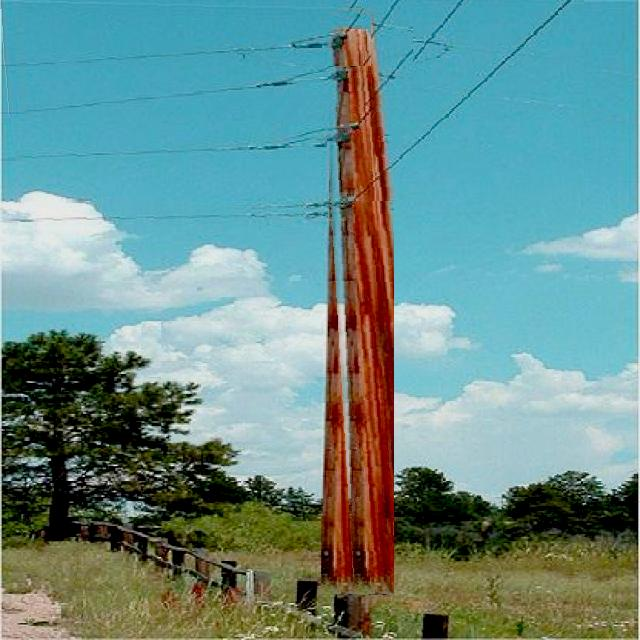pole: (332, 19, 394, 595)
wire: (9, 0, 406, 117), (348, 0, 577, 202), (3, 6, 371, 66), (357, 4, 471, 131), (10, 136, 327, 159), (2, 207, 328, 226)
